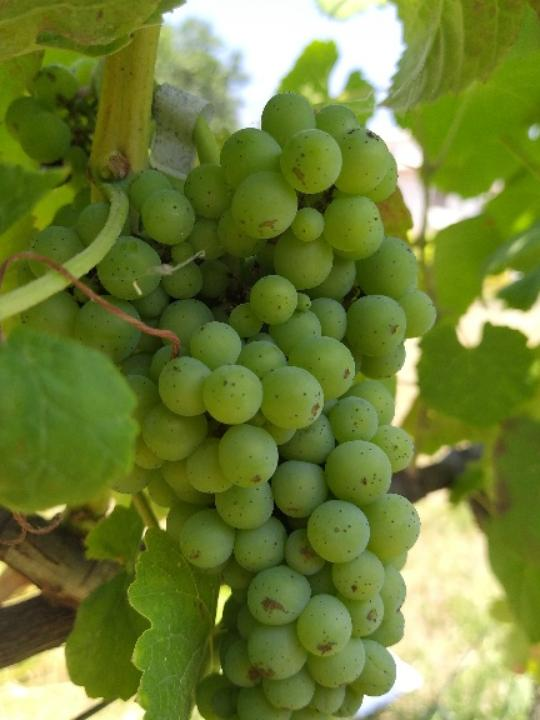grape: (21, 89, 445, 720)
